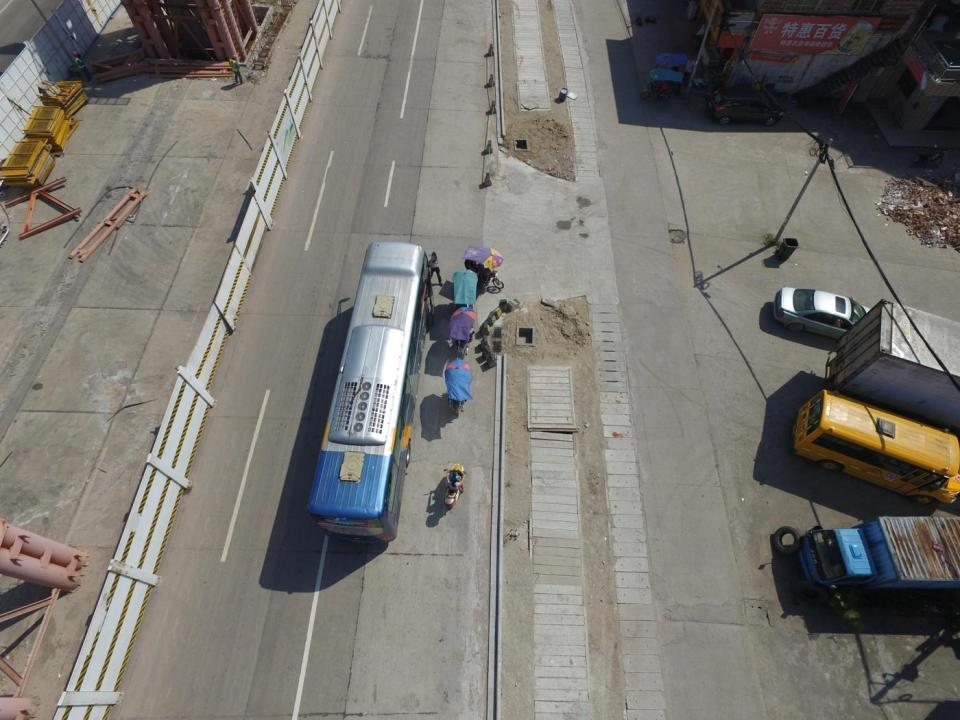bus: (308, 244, 424, 543), (791, 389, 960, 509)
car: (773, 286, 888, 340), (708, 90, 784, 127)
truck: (827, 299, 960, 437), (801, 516, 960, 606)
